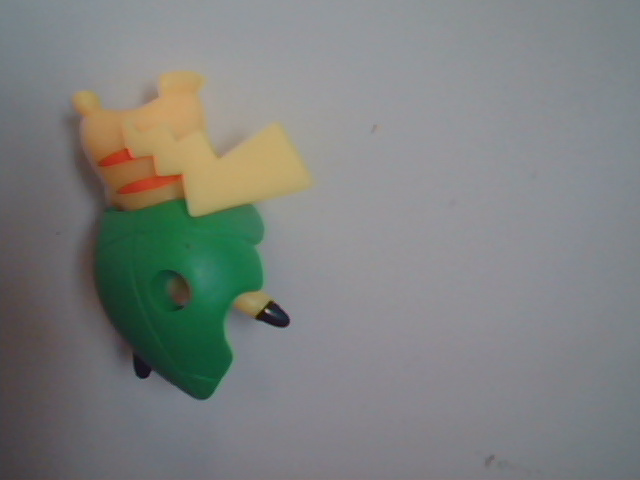pikachu: (23, 70, 396, 438)
